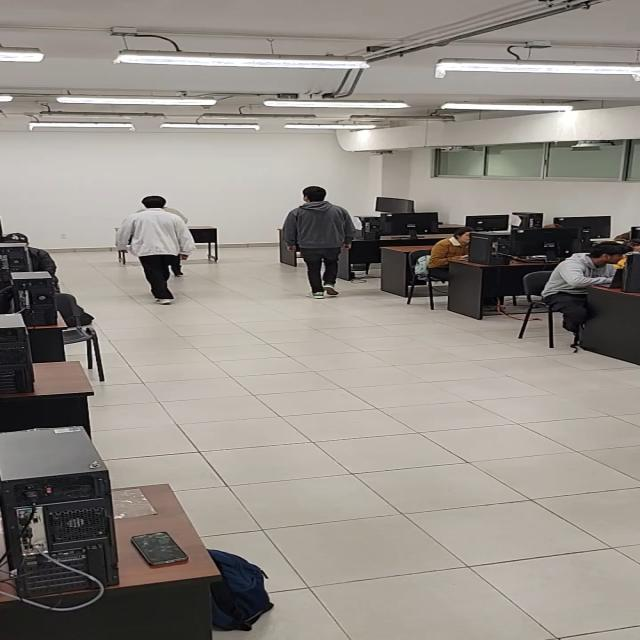Persona: (116, 195, 198, 306), (280, 187, 359, 299)
